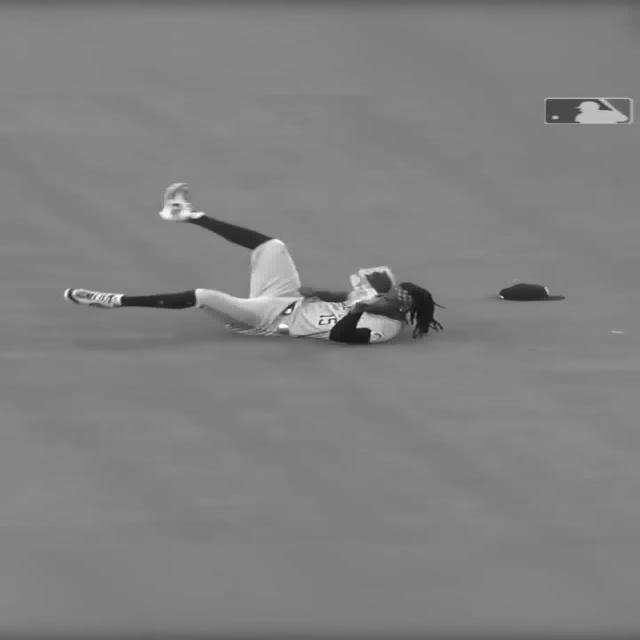baseball_glove: (346, 265, 393, 307)
shoe: (156, 180, 198, 223), (56, 287, 126, 312)
